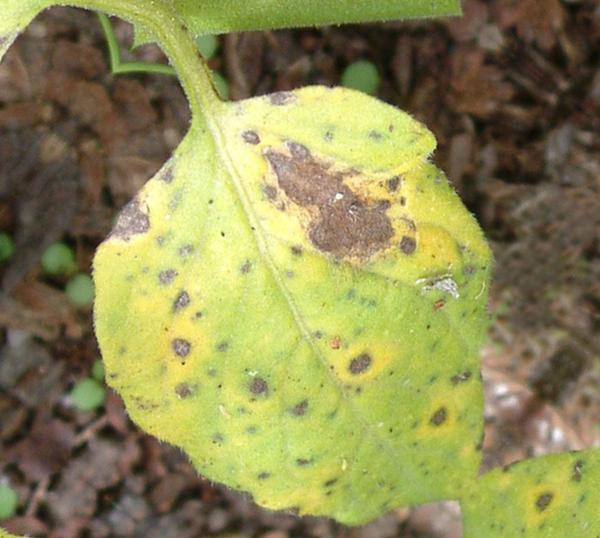Tomato Early blight leaf: (3, 3, 600, 538)
